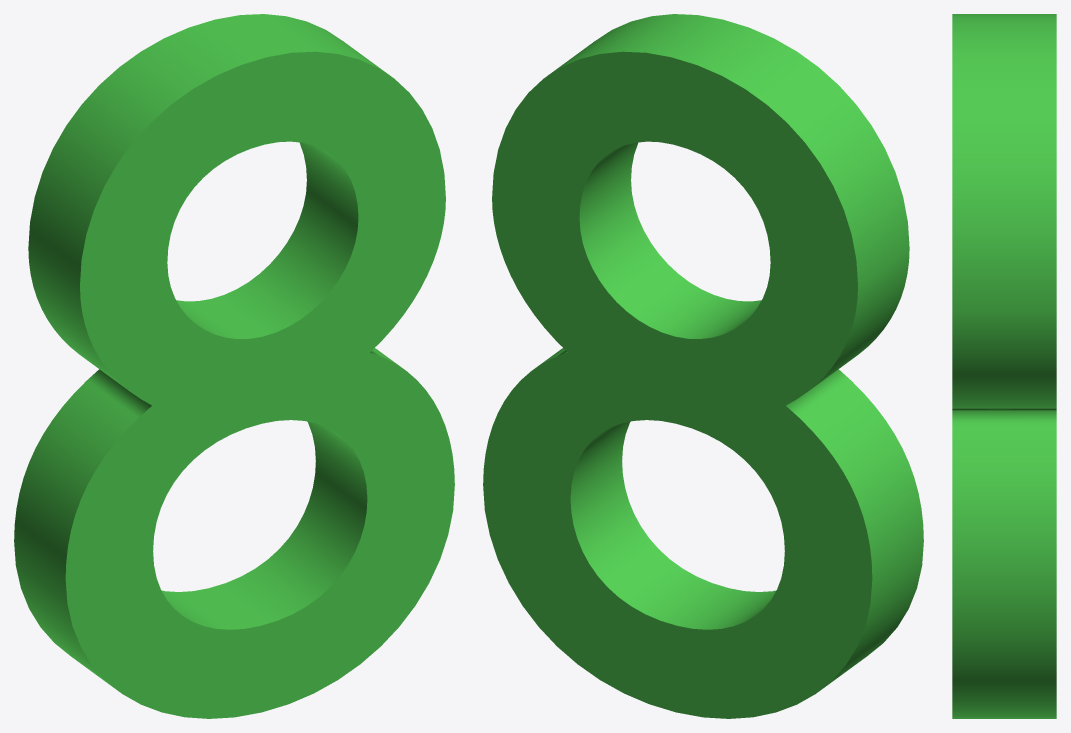
The model's file is Aereflora.glb.
3 renders of one model, left to right at view 1: azimuth 30°, elevation 25°; view 2: azimuth 150°, elevation 25°; view 3: azimuth 270°, elevation 25°, orthographic.
Parts seen in each view (by area): view 1: 8; view 2: 8; view 3: 8.
Boxes of the visible parts, left/top/right/bottom form: 8: left=14, top=14, right=454, bottom=718; 8: left=483, top=14, right=923, bottom=718; 8: left=952, top=14, right=1056, bottom=718.
Bounding box in the file's own units: 0.436 × 0.7 × 0.1.
